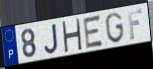8: (21, 28, 38, 58)
E: (82, 13, 105, 50)
F: (126, 8, 143, 41)
G: (104, 11, 126, 44)
H: (61, 18, 83, 53)
J: (43, 22, 60, 55)
